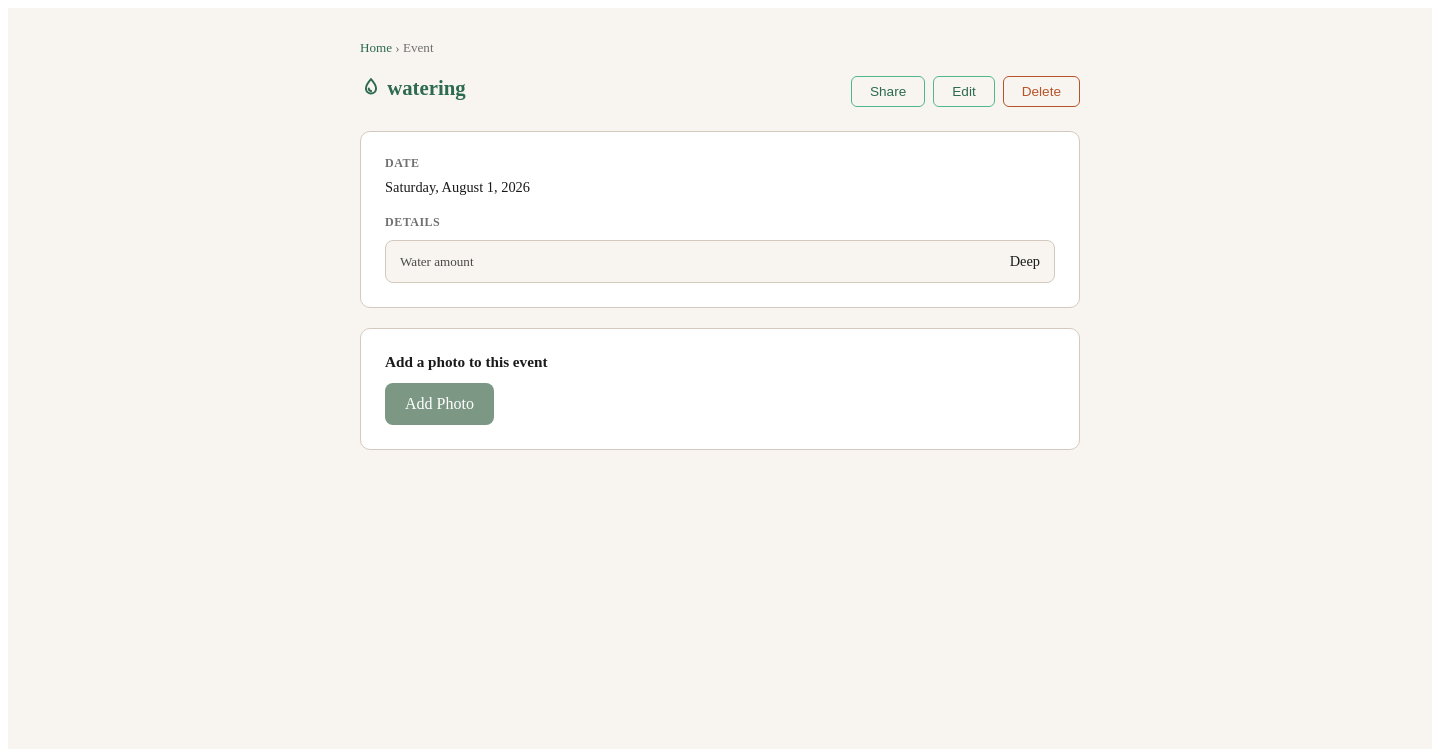
it: EventDetail — editing the class › chips render seeded from the SAVED row
Click the button "Edit": point(964, 92) [933,76,995,107]
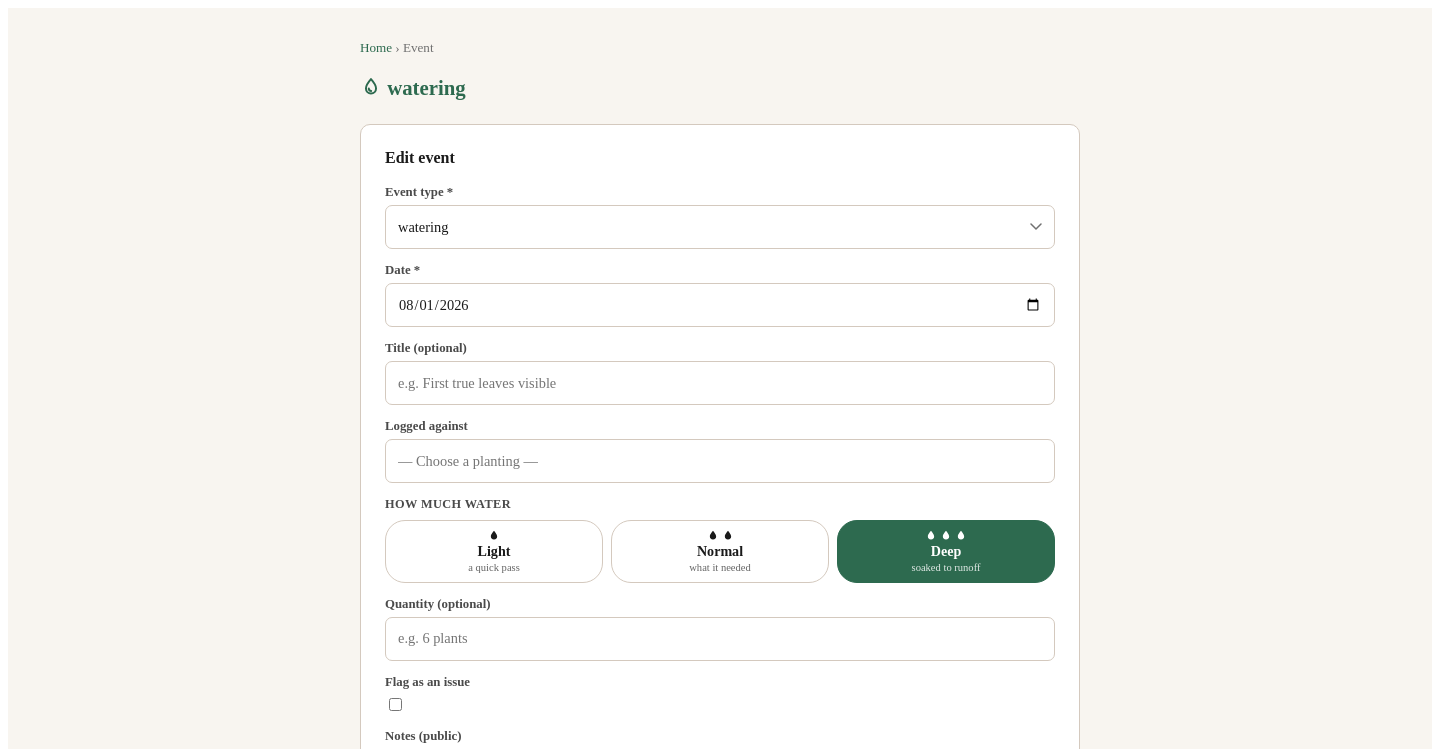
Expected: the element with test id "ev-water-depth-group" is shown, [385,520,1055,583]
